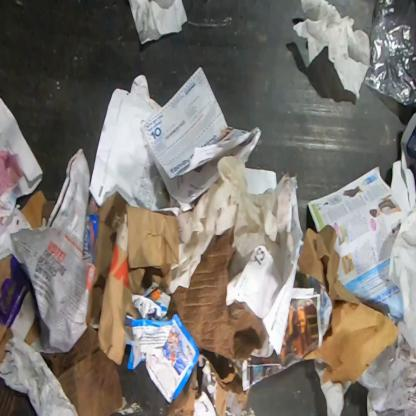cardboard: (166, 225, 268, 361), (40, 322, 124, 415), (165, 353, 253, 415), (0, 252, 42, 365), (20, 190, 47, 230)
soft_plastic: (176, 155, 299, 285), (362, 0, 415, 107)
